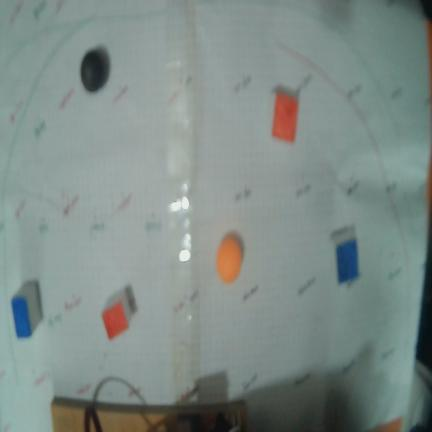circle_blue: (80, 46, 110, 92)
circle_orange: (217, 235, 242, 283)
rectangle_blue: (12, 299, 30, 338)
rectangle_orange: (103, 297, 129, 341)
square_blue: (336, 239, 358, 283)
square_orange: (272, 92, 298, 142)
